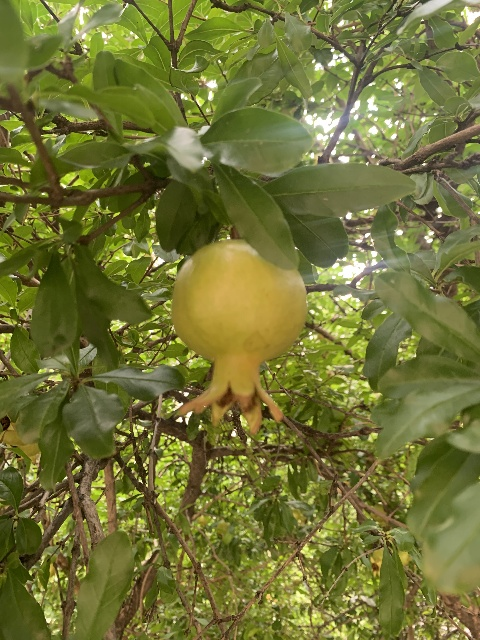mid-growth: (171, 239, 308, 437)
